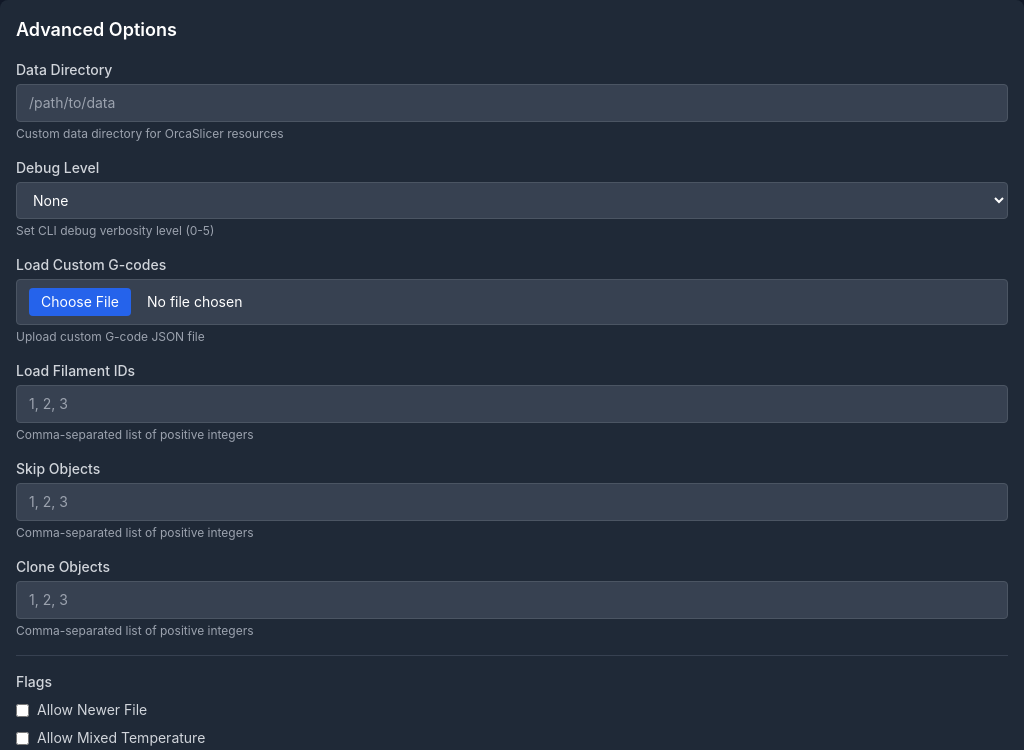
Test: AdvancedPanel › validates skip_objects input and shows error for invalid integers
The image size is (1024, 750).
# Enter invalid value
Type "1, abc, 3" into the field labelled "Skip Objects" at x=512, y=502, box top-left (16, 483), bottom-right (1008, 521)
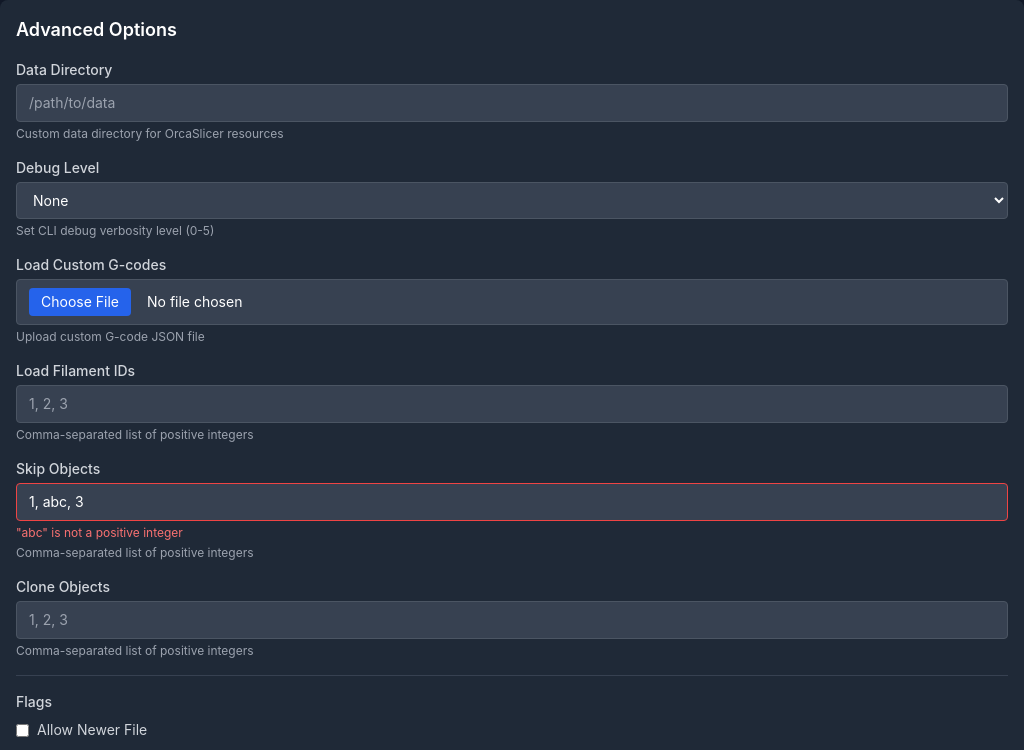
Now the text "\"abc\" is not a positive integer" is shown, box top-left (16, 525), bottom-right (183, 540)
